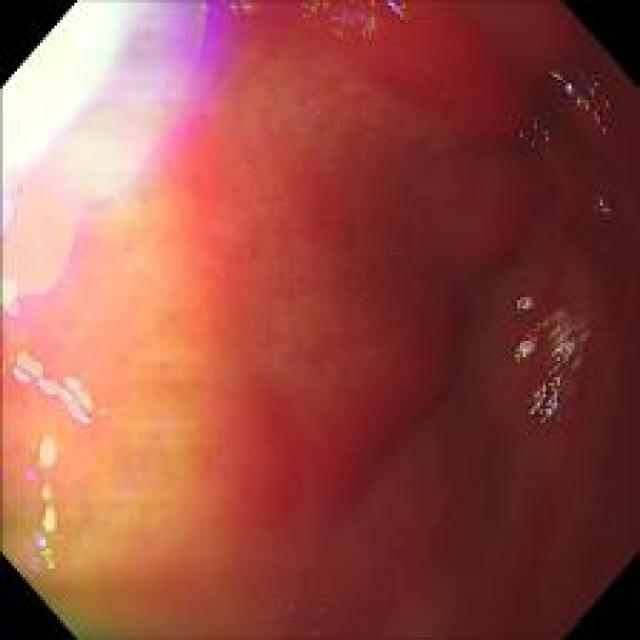color misalignment: (0, 4, 246, 420), (514, 288, 582, 419), (6, 346, 99, 420), (25, 432, 65, 580), (299, 1, 420, 36), (550, 66, 611, 126), (15, 530, 54, 571), (520, 115, 554, 148), (595, 191, 612, 219)
saturation: (6, 6, 129, 212)
specularity: (144, 9, 250, 284), (511, 282, 590, 424), (11, 350, 94, 421), (545, 64, 615, 125), (38, 435, 58, 469), (42, 485, 55, 531)
